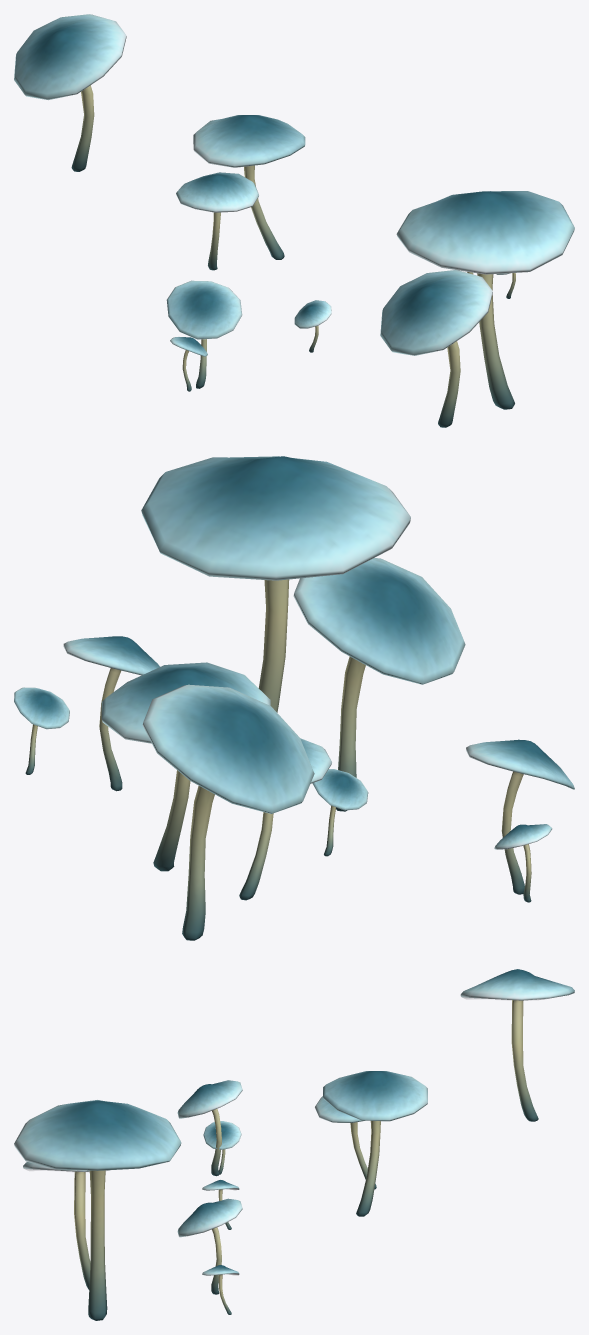
File: Cartoon Seaweed_13-1-26.fbx
3 renders of one model, top to bottom at view 1: azimuth 30°, elevation 25°; view 2: azimuth 150°, elevation 25°; view 3: azimuth 270°, elevation 25°, orthographic. The views are drawn at different scales.
Parts seen in each view (by area): view 1: Cartoon Seaweed_13.1.26; view 2: Cartoon Seaweed_13.1.26; view 3: Cartoon Seaweed_13.1.26.
Part boxes in pixels (box(x1,y1,x2,y2)): Cartoon Seaweed_13.1.26: box(14, 14, 574, 427); Cartoon Seaweed_13.1.26: box(14, 456, 574, 940); Cartoon Seaweed_13.1.26: box(14, 969, 574, 1320).
Size of the model in its own units: 18.16 by 12.97 by 26.09.
Materials: 1 (1 with a texture image).
